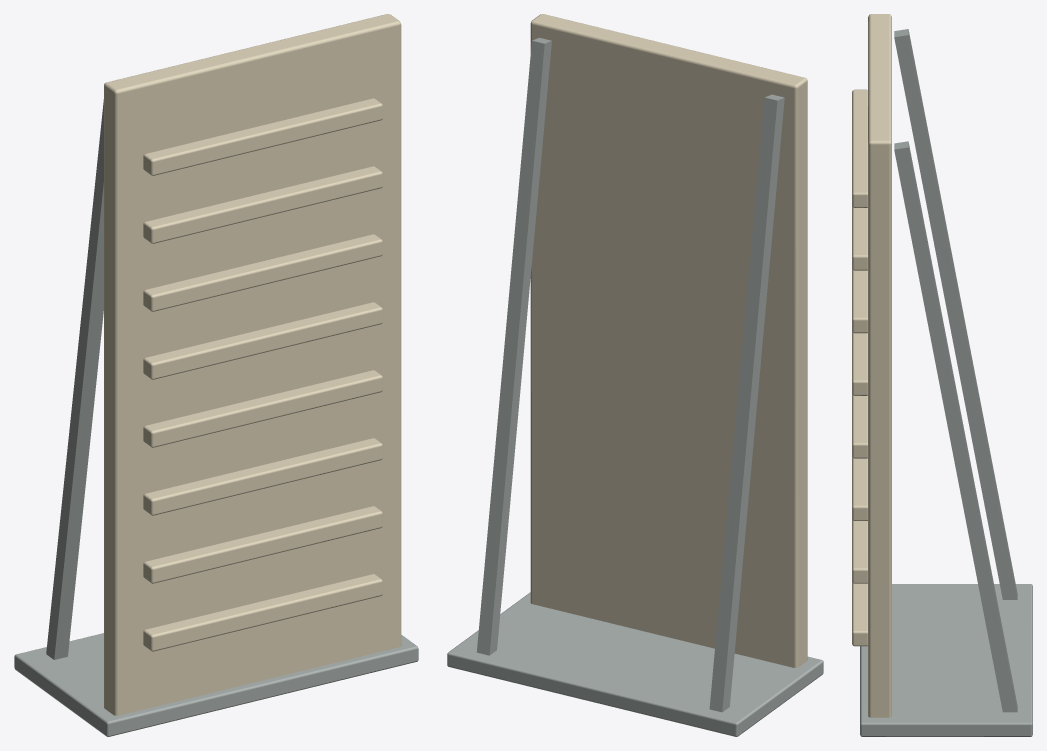
File: indoor-climbing-and-bouldering-gym-indoor-climbing-and-395bf823__31550.glb
3 renders of one model, left to right at view 1: azimuth 30°, elevation 25°; view 2: azimuth 150°, elevation 25°; view 3: azimuth 270°, elevation 25°, orthographic. The views are drawn at different scales.
Parts seen in each view (by area): view 1: indoor-climbing-and-bouldering-gym-campus-training-board; view 2: indoor-climbing-and-bouldering-gym-campus-training-board; view 3: indoor-climbing-and-bouldering-gym-campus-training-board.
Boxes of the visible parts, box(x1,y1,x2,y2) form: indoor-climbing-and-bouldering-gym-campus-training-board: box(14, 14, 418, 736); indoor-climbing-and-bouldering-gym-campus-training-board: box(447, 14, 823, 736); indoor-climbing-and-bouldering-gym-campus-training-board: box(852, 14, 1032, 736).
Bounding box in the file's own units: 1.25 × 2.45 × 0.6805.
